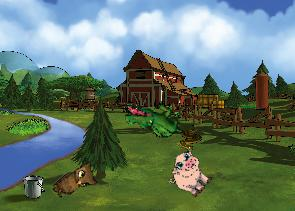crocodile: (123, 100, 185, 140)
owl: (50, 157, 103, 208)
pig: (162, 146, 218, 202)
